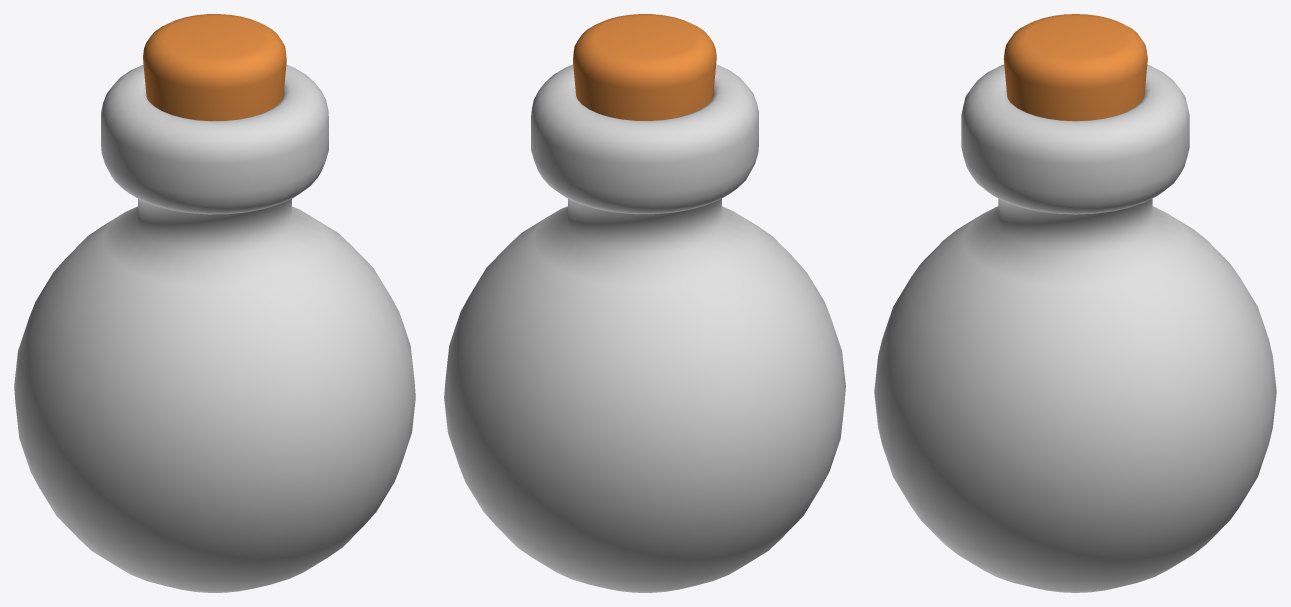
The model's file is Poção Vida.fbx.
The picture shows the model from 3 angles, left to right: view 1: azimuth 30°, elevation 25°; view 2: azimuth 150°, elevation 25°; view 3: azimuth 270°, elevation 25°; orthographic projection.
Parts seen in each view (by area): view 1: Sphere, Cylinder; view 2: Sphere, Cylinder; view 3: Sphere, Cylinder.
Boxes of the visible parts, x1,y1,x2,y2 form: Sphere: [14, 64, 415, 592]; Cylinder: [143, 14, 286, 121]; Sphere: [444, 64, 845, 592]; Cylinder: [573, 14, 716, 120]; Sphere: [874, 64, 1276, 592]; Cylinder: [1003, 14, 1147, 121].
Size of the model in its own units: 66.54 by 97.94 by 66.54.
